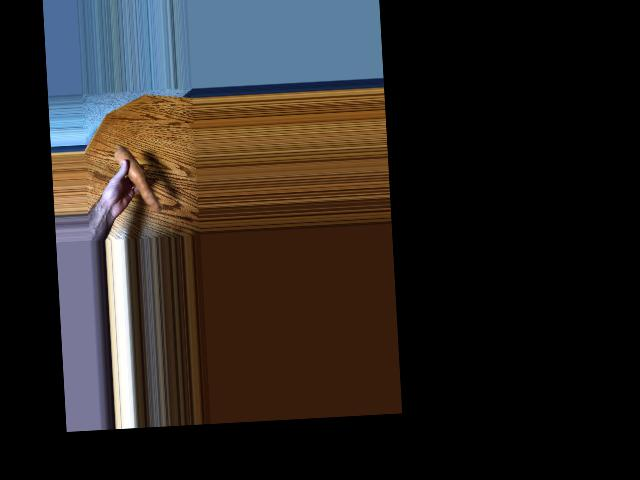sweet_potato: (115, 136, 156, 213)
